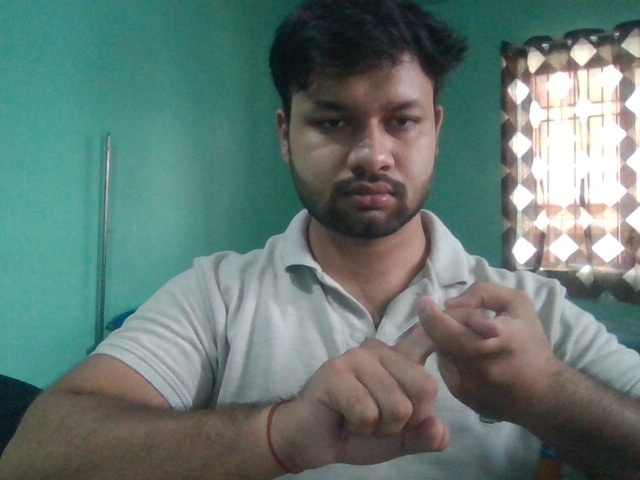Friend: (281, 279, 559, 474)
